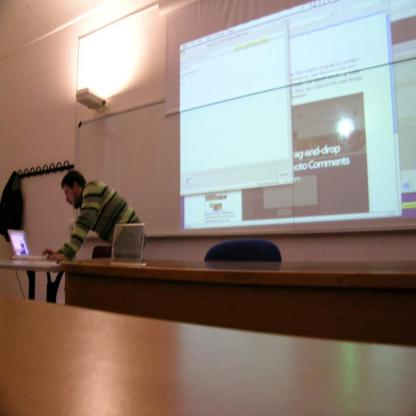board: (7, 231, 48, 261)
